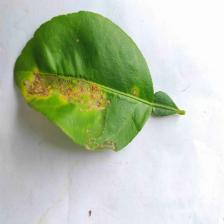canker: (26, 61, 112, 122)
